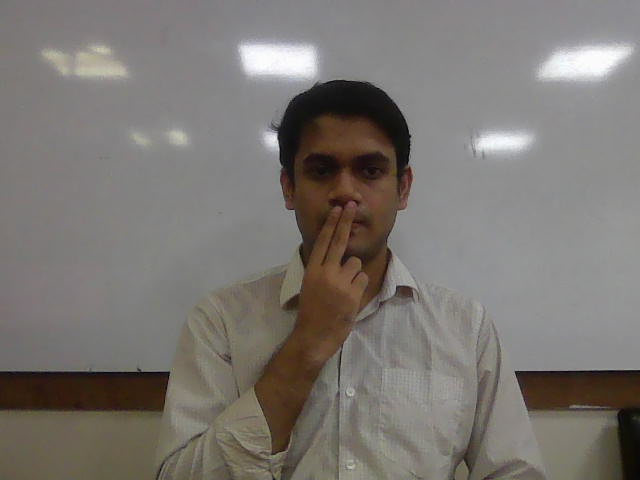Bak: (295, 200, 370, 370)
